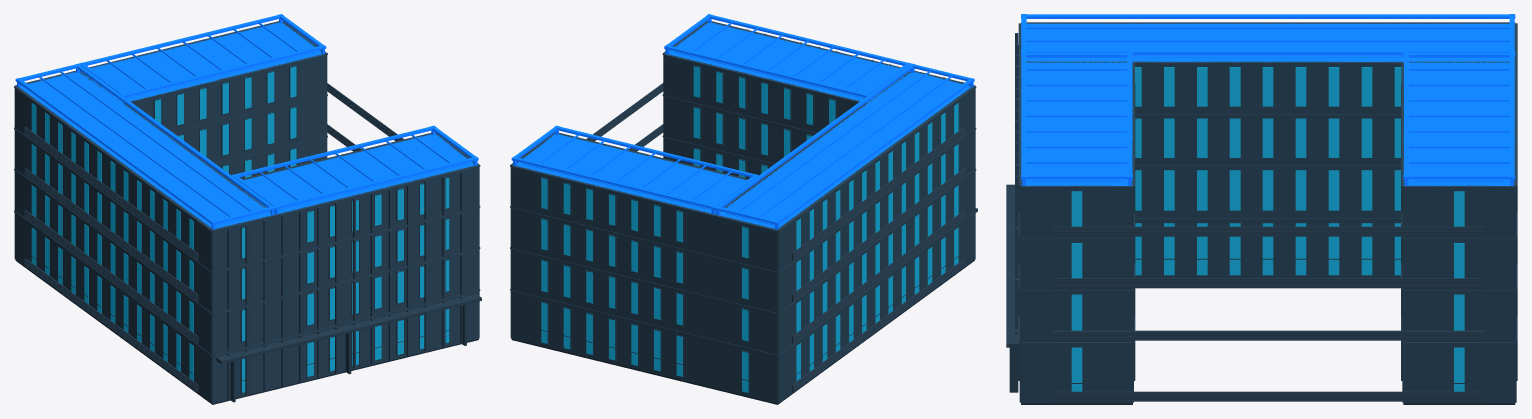
3 views of the same model, side by side, from view 1: azimuth 30°, elevation 25°; view 2: azimuth 150°, elevation 25°; view 3: azimuth 270°, elevation 25° (orthographic). The views are drawn at different scales.
Parts seen in each view (by area): view 1: Campus_B1_F04_Envelope_White, Campus_B1_F03_Envelope_White, Campus_B1_RF_Garden_Garden, Campus_B1_F02_Envelope_White, Campus_B1_F01_Envelope_White, Campus_B1_RF_Structure_Roof, Campus_B1_F04_Glazing_Glass, Campus_B1_F01_Envelope_Frame, Campus_B1_F03_Glazing_Glass, Campus_B1_F01_Glazing_Glass, Campus_B1_F02_Glazing_Glass, Campus_B1_RF_Structure_White (+12 smaller); view 2: Campus_B1_F04_Envelope_White, Campus_B1_RF_Garden_Garden, Campus_B1_F03_Envelope_White, Campus_B1_F01_Envelope_White, Campus_B1_F02_Envelope_White, Campus_B1_RF_Structure_Roof, Campus_B1_F04_Glazing_Glass, Campus_B1_F03_Glazing_Glass, Campus_B1_F01_Glazing_Glass, Campus_B1_F02_Glazing_Glass, Campus_B1_RF_Structure_White, Campus_B1_F04_Envelope_Frame (+12 smaller); view 3: Campus_B1_RF_Garden_Garden, Campus_B1_F04_Envelope_White, Campus_B1_F01_Envelope_White, Campus_B1_F02_Envelope_White, Campus_B1_F03_Envelope_White, Campus_B1_RF_Structure_Roof, Campus_B1_RF_Structure_White, Campus_B1_F01_Envelope_Frame, Campus_B1_F01_Glazing_Glass, Campus_B1_F02_Glazing_Glass, Campus_B1_F02_Envelope_Frame, Campus_B1_F04_Glazing_Glass (+9 smaller).
Part boxes in pixels (bbox=[...]): Campus_B1_F04_Envelope_White: bbox=[14, 21, 480, 271]; Campus_B1_F03_Envelope_White: bbox=[14, 94, 480, 312]; Campus_B1_RF_Garden_Garden: bbox=[31, 25, 467, 225]; Campus_B1_F02_Envelope_White: bbox=[14, 135, 480, 354]; Campus_B1_F01_Envelope_White: bbox=[14, 210, 480, 403]; Campus_B1_RF_Structure_Roof: bbox=[15, 14, 478, 228]; Campus_B1_F04_Glazing_Glass: bbox=[31, 65, 449, 258]; Campus_B1_F01_Envelope_Frame: bbox=[24, 258, 481, 402]; Campus_B1_F03_Glazing_Glass: bbox=[31, 107, 449, 299]; Campus_B1_F01_Glazing_Glass: bbox=[31, 228, 449, 392]; Campus_B1_F02_Glazing_Glass: bbox=[31, 148, 449, 341]; Campus_B1_RF_Structure_White: bbox=[17, 15, 477, 229]; Campus_B1_F04_Envelope_White: bbox=[510, 21, 976, 271]; Campus_B1_RF_Garden_Garden: bbox=[523, 25, 959, 225]; Campus_B1_F03_Envelope_White: bbox=[510, 94, 976, 312]; Campus_B1_F01_Envelope_White: bbox=[510, 210, 976, 403]; Campus_B1_F02_Envelope_White: bbox=[510, 135, 976, 354]; Campus_B1_RF_Structure_Roof: bbox=[511, 14, 974, 228]; Campus_B1_F04_Glazing_Glass: bbox=[541, 66, 958, 258]; Campus_B1_F03_Glazing_Glass: bbox=[541, 107, 958, 299]; Campus_B1_F01_Glazing_Glass: bbox=[541, 227, 958, 392]; Campus_B1_F02_Glazing_Glass: bbox=[541, 148, 958, 341]; Campus_B1_RF_Structure_White: bbox=[513, 18, 973, 229]; Campus_B1_F04_Envelope_Frame: bbox=[586, 83, 965, 260]; Campus_B1_RF_Garden_Garden: bbox=[1031, 26, 1504, 181]; Campus_B1_F04_Envelope_White: bbox=[1015, 22, 1517, 238]; Campus_B1_F01_Envelope_White: bbox=[1015, 218, 1517, 403]; Campus_B1_F02_Envelope_White: bbox=[1015, 165, 1517, 342]; Campus_B1_F03_Envelope_White: bbox=[1015, 114, 1517, 289]; Campus_B1_RF_Structure_Roof: bbox=[1021, 14, 1515, 185]; Campus_B1_RF_Structure_White: bbox=[1022, 27, 1513, 185]; Campus_B1_F01_Envelope_Frame: bbox=[1006, 184, 1484, 401]; Campus_B1_F01_Glazing_Glass: bbox=[1071, 223, 1464, 391]; Campus_B1_F02_Glazing_Glass: bbox=[1071, 170, 1464, 330]; Campus_B1_F02_Envelope_Frame: bbox=[1052, 330, 1484, 340]; Campus_B1_F04_Glazing_Glass: bbox=[1071, 67, 1464, 226].
Size of the model in its own units: 38.96 by 24.74 by 50.3.
